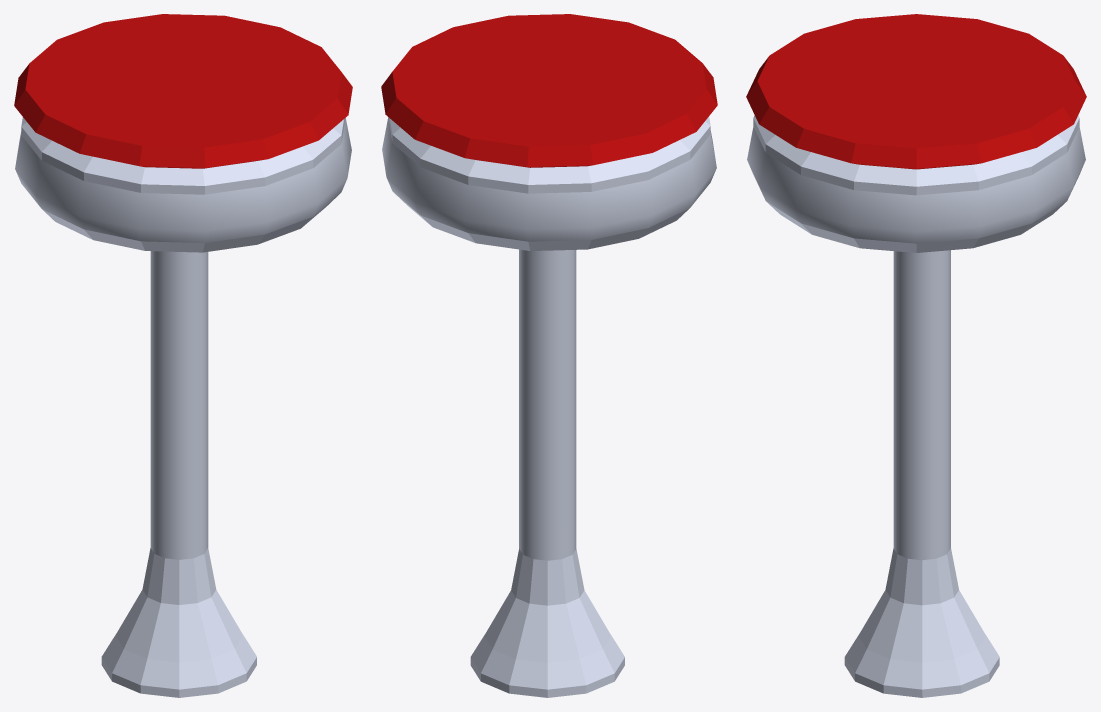
Rendered from SM_stool_02.fbx.
3 renders of one model, left to right at view 1: azimuth 30°, elevation 25°; view 2: azimuth 150°, elevation 25°; view 3: azimuth 270°, elevation 25°, orthographic.
Parts seen in each view (by area): view 1: stool_02; view 2: stool_02; view 3: stool_02.
Boxes of the visible parts, x1,y1,x2,y2 form: stool_02: [14, 14, 352, 697]; stool_02: [381, 14, 717, 697]; stool_02: [746, 14, 1086, 697].
Size of the model in its own units: 36.04 by 68.22 by 36.04.
